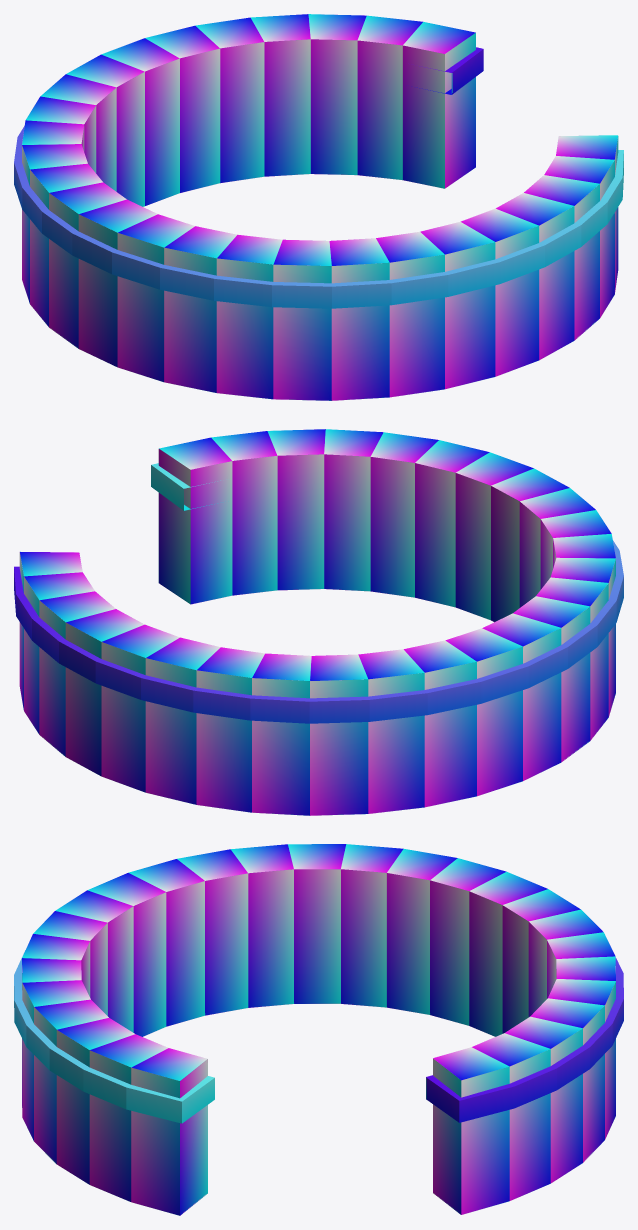
Rendered from Bar.obj.
The picture shows the model from 3 angles, top to bottom: view 1: azimuth 30°, elevation 25°; view 2: azimuth 150°, elevation 25°; view 3: azimuth 270°, elevation 25°; orthographic projection.
Visible parts, largest first — view 1: Cylinder.002_Cylinder.006; view 2: Cylinder.002_Cylinder.006; view 3: Cylinder.002_Cylinder.006.
Part boxes in pixels (x1,y1,x2,y2): Cylinder.002_Cylinder.006: (14, 14, 623, 400); Cylinder.002_Cylinder.006: (14, 429, 623, 815); Cylinder.002_Cylinder.006: (14, 844, 623, 1215).
Bounding box in the file's own units: 0.4385 × 0.113 × 0.4638.
Materials: 1 (1 with a texture image).
